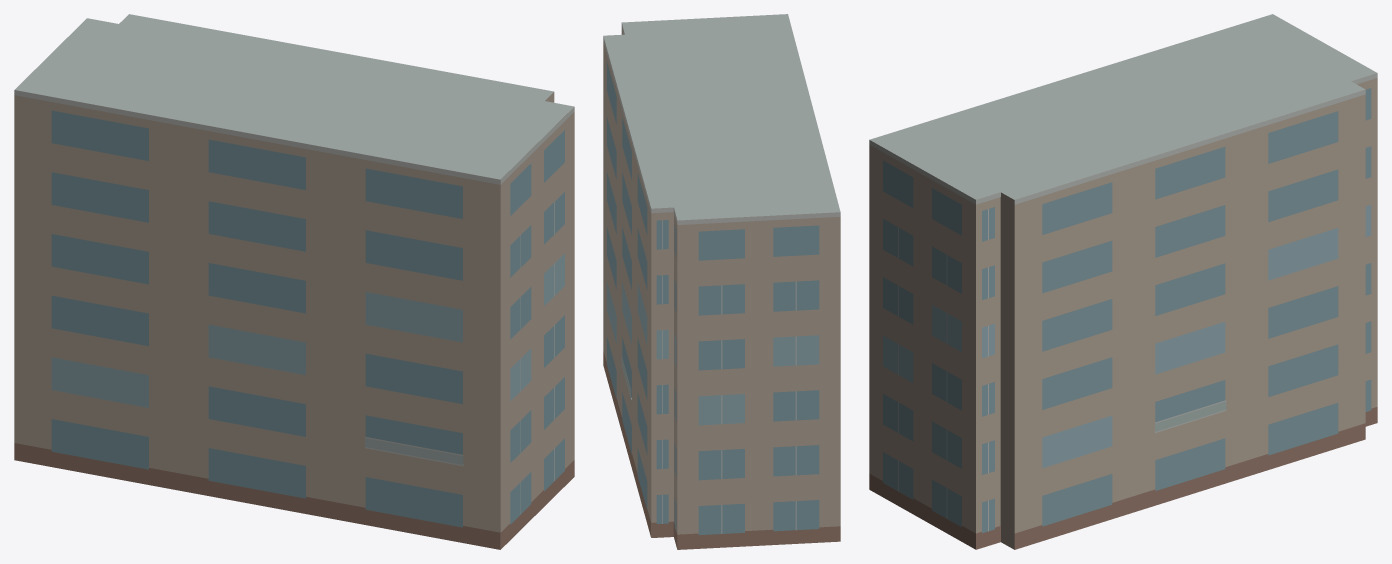
Rendered from survey-upis-32714326.glb.
The picture shows the model from 3 angles, left to right: view 1: azimuth 30°, elevation 25°; view 2: azimuth 150°, elevation 25°; view 3: azimuth 270°, elevation 25°; orthographic projection. The views are drawn at different scales.
Parts seen in each view (by area): view 1: survey-upis-32714326.tmp; view 2: survey-upis-32714326.tmp; view 3: survey-upis-32714326.tmp.
Boxes of the visible parts, x1,y1,x2,y2 form: survey-upis-32714326.tmp: [14, 14, 574, 549]; survey-upis-32714326.tmp: [603, 14, 840, 549]; survey-upis-32714326.tmp: [869, 14, 1377, 549].
Size of the model in its own units: 20.07 by 17.6 by 23.18.
